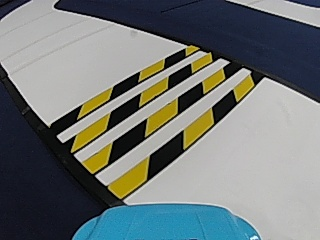bump: (58, 56, 223, 164)
